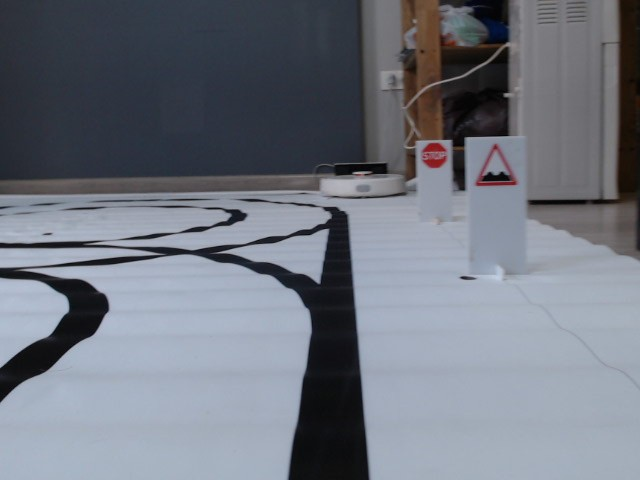Nerov: (473, 142, 518, 187)
Stop: (420, 142, 447, 168)
